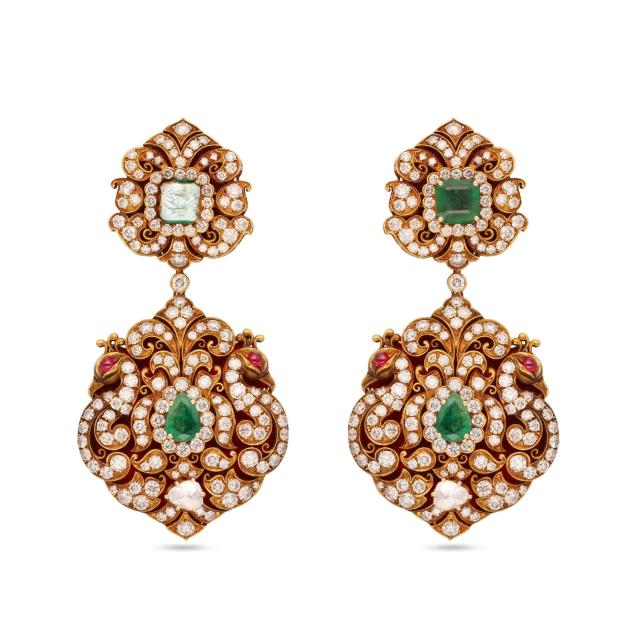missing gem: (161, 181, 200, 221)
